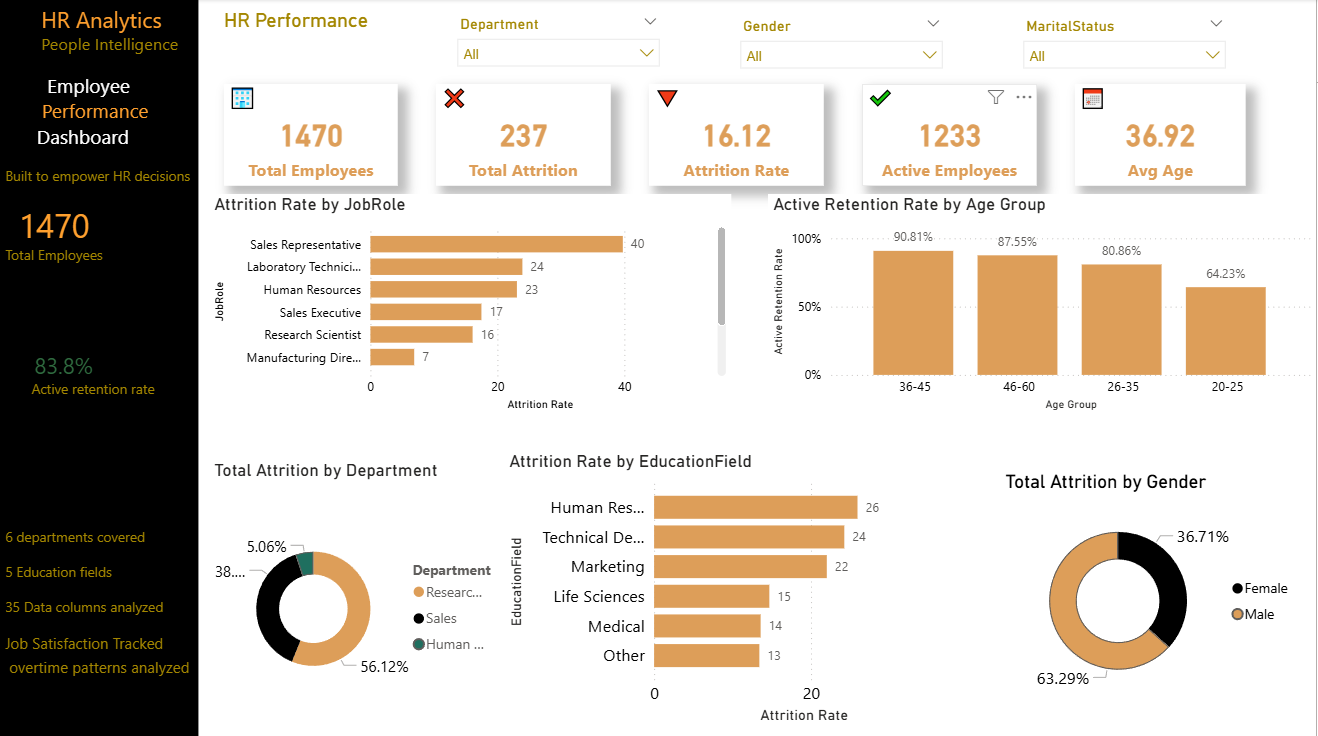

What the dashboard file says about the page in this screenshot:
{"tool":"powerbi","page":{"name":"Dashboard","canvas":[1280,720],"ordinal":0},"visuals":[{"type":"card","title":"🏢","fields":{"Values":["Measures (2).Total Employees"]},"box":[217.9,82.7,169.2,99.2],"z":0},{"type":"card","title":"❌","fields":{"Values":["Measures (2).Total Attrition"]},"box":[424.1,82.7,170.2,99.2],"z":1000},{"type":"card","title":"🔻","fields":{"Values":["Measures (2).Attrition Rate"]},"box":[631.2,82.7,170.2,99.2],"z":2000},{"type":"card","title":"✔️","fields":{"Values":["Measures (2).Active Employees"]},"box":[838.4,82.7,170.2,99.2],"z":3000},{"type":"card","title":"📅","fields":{"Values":["Measures (2).Avg Age"]},"box":[1045.6,82.7,166.3,99.2],"z":4000},{"type":"shape","box":[0,0,192.6,719.8],"z":5000},{"type":"textbox","box":[0,0,192.6,718.8],"z":6000},{"type":"shape","title":"HR Performance","box":[217.9,8.8,216.9,33.1],"z":7000},{"type":"slicer","fields":{"Values":["HRIS.Department"]},"box":[434.8,10.7,216.9,57.4],"z":8000},{"type":"slicer","fields":{"Values":["HRIS.Gender"]},"box":[710,12.6,216.9,57.4],"z":9000},{"type":"slicer","fields":{"Values":["HRIS.MaritalStatus"]},"box":[985.3,12.6,216.9,57.4],"z":10000},{"type":"donutChart","fields":{"Series":["HRIS.Gender"],"Y":["Measures (2).Total Attrition"]},"box":[972.6,459.1,294.7,231.5],"z":11000},{"type":"clusteredBarChart","fields":{"Category":["HRIS.JobRole"],"Y":["Measures (2).Attrition Rate"]},"box":[203.3,189.7,507.7,215],"z":12000},{"type":"clusteredBarChart","fields":{"Category":["HRIS.EducationField"],"Y":["Measures (2).Attrition Rate"]},"box":[490.2,439.6,452.3,269.4],"z":13000},{"type":"clusteredColumnChart","fields":{"Category":["HRIS.Age Group"],"Y":["Measures (2).Active Retention Rate"]},"box":[747,189.7,533,215],"z":14000},{"type":"donutChart","fields":{"Category":["HRIS.Department"],"Y":["Measures (2).Total Attrition"]},"box":[203.3,448.4,286.9,270.4],"z":15000}]}

Visuals, with their boxes in screenshot pixels (x1, y1, x2, y2), scaled from the page's 1280x720 canvas onto the 1318x736 screenshot:
"🏢" card: x1=224, y1=85, x2=399, y2=186
"❌" card: x1=437, y1=85, x2=612, y2=186
"🔻" card: x1=650, y1=85, x2=825, y2=186
"✔️" card: x1=863, y1=85, x2=1039, y2=186
"📅" card: x1=1077, y1=85, x2=1248, y2=186
shape: x1=0, y1=0, x2=198, y2=735
textbox: x1=0, y1=0, x2=198, y2=735
"HR Performance" shape: x1=224, y1=9, x2=448, y2=43
slicer - HRIS.Department: x1=448, y1=11, x2=671, y2=70
slicer - HRIS.Gender: x1=731, y1=13, x2=954, y2=72
slicer - HRIS.MaritalStatus: x1=1015, y1=13, x2=1238, y2=72
donutChart - HRIS.Gender x Measures (2).Total Attrition: x1=1001, y1=469, x2=1305, y2=706
clusteredBarChart - HRIS.JobRole x Measures (2).Attrition Rate: x1=209, y1=194, x2=732, y2=414
clusteredBarChart - HRIS.EducationField x Measures (2).Attrition Rate: x1=505, y1=449, x2=970, y2=725
clusteredColumnChart - HRIS.Age Group x Measures (2).Active Retention Rate: x1=769, y1=194, x2=1317, y2=414
donutChart - HRIS.Department x Measures (2).Total Attrition: x1=209, y1=458, x2=505, y2=735
